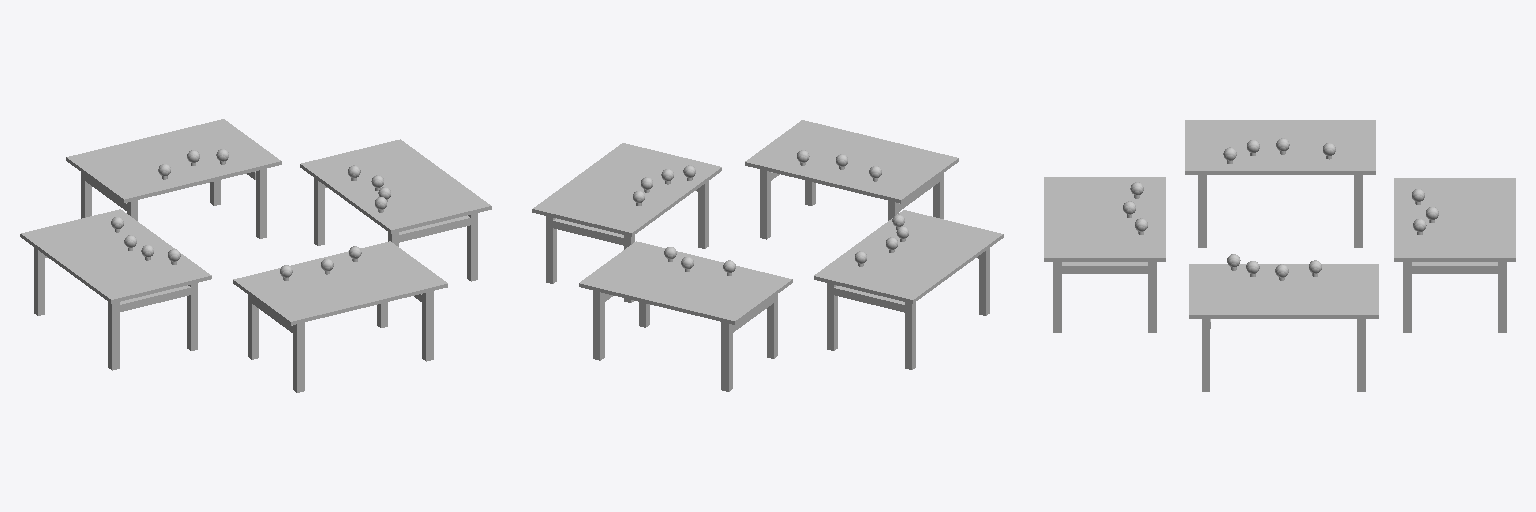
robot.urdf — tables_and_knobs_scene:
<?xml version="1.0"?>
<!-- created with Phobos 1.0.1 "Capricious Choutengan" -->
  <robot name="tables_and_knobs_scene">

    <link name="knob">
      <inertial>
        <origin xyz="0 0 0" rpy="0 0 0"/>
        <mass value="0.001"/>
        <inertia ixx="0.001" ixy="0" ixz="0" iyy="0.001" iyz="0" izz="0.001"/>
      </inertial>
      <visual name="Cylinder">
        <origin xyz="0 0 0" rpy="0 0 0"/>
        <geometry>
          <mesh filename="package://Tables_and_Knobs/meshes/dae/Cylinder.002.dae" scale="0.034 0.034 0.05921"/>
        </geometry>
        <material name="Red Material"/>
      </visual>
      <collision name="Cylinder.col">
        <origin xyz="0 0 0" rpy="0 0 0"/>
        <geometry>
          <mesh filename="package://Tables_and_Knobs/meshes/dae/Cylinder.003.dae" scale="0.034 0.034 0.05921"/>
        </geometry>
      </collision>
    </link>

    <link name="knob.001">
      <inertial>
        <origin xyz="0 0 0" rpy="0 0 0"/>
        <mass value="0.001"/>
        <inertia ixx="0.001" ixy="0" ixz="0" iyy="0.001" iyz="0" izz="0.001"/>
      </inertial>
      <visual name="Cylinder.001">
        <origin xyz="0 0 0" rpy="0 0 0"/>
        <geometry>
          <mesh filename="package://Tables_and_Knobs/meshes/dae/Cylinder.004.dae" scale="0.034 0.034 0.05921"/>
        </geometry>
        <material name="Red Material"/>
      </visual>
      <collision name="Cylinder.col.001">
        <origin xyz="0 0 0" rpy="0 0 0"/>
        <geometry>
          <mesh filename="package://Tables_and_Knobs/meshes/dae/Cylinder.005.dae" scale="0.034 0.034 0.05921"/>
        </geometry>
      </collision>
    </link>

    <link name="knob.002">
      <inertial>
        <origin xyz="0 0 0" rpy="0 0 0"/>
        <mass value="0.001"/>
        <inertia ixx="0.001" ixy="0" ixz="0" iyy="0.001" iyz="0" izz="0.001"/>
      </inertial>
      <visual name="Cylinder.002">
        <origin xyz="0 0 0" rpy="0 0 0"/>
        <geometry>
          <mesh filename="package://Tables_and_Knobs/meshes/dae/Cylinder.006.dae" scale="0.034 0.034 0.05921"/>
        </geometry>
        <material name="Red Material"/>
      </visual>
      <collision name="Cylinder.col.002">
        <origin xyz="0 0 0" rpy="0 0 0"/>
        <geometry>
          <mesh filename="package://Tables_and_Knobs/meshes/dae/Cylinder.007.dae" scale="0.034 0.034 0.05921"/>
        </geometry>
      </collision>
    </link>

    <link name="knob.003">
      <inertial>
        <origin xyz="0 0 0" rpy="0 0 0"/>
        <mass value="0.001"/>
        <inertia ixx="0.001" ixy="0" ixz="0" iyy="0.001" iyz="0" izz="0.001"/>
      </inertial>
      <visual name="Cylinder.003">
        <origin xyz="0 0 0" rpy="0 0 0"/>
        <geometry>
          <mesh filename="package://Tables_and_Knobs/meshes/dae/Cylinder.008.dae" scale="0.034 0.034 0.05921"/>
        </geometry>
        <material name="Red Material"/>
      </visual>
      <collision name="Cylinder.col.003">
        <origin xyz="0 0 0" rpy="0 0 0"/>
        <geometry>
          <mesh filename="package://Tables_and_Knobs/meshes/dae/Cylinder.009.dae" scale="0.034 0.034 0.05921"/>
        </geometry>
      </collision>
    </link>

    <link name="knob.004">
      <inertial>
        <origin xyz="0 0 0" rpy="0 0 0"/>
        <mass value="0.001"/>
        <inertia ixx="0.001" ixy="0" ixz="0" iyy="0.001" iyz="0" izz="0.001"/>
      </inertial>
      <visual name="Cylinder.004">
        <origin xyz="0 0 0" rpy="0 0 0"/>
        <geometry>
          <mesh filename="package://Tables_and_Knobs/meshes/dae/Cylinder.010.dae" scale="0.034 0.034 0.05921"/>
        </geometry>
        <material name="Red Material"/>
      </visual>
      <collision name="Cylinder.col.004">
        <origin xyz="0 0 0" rpy="0 0 0"/>
        <geometry>
          <mesh filename="package://Tables_and_Knobs/meshes/dae/Cylinder.011.dae" scale="0.034 0.034 0.05921"/>
        </geometry>
      </collision>
    </link>

    <link name="knob.005">
      <inertial>
        <origin xyz="0 0 0" rpy="0 0 0"/>
        <mass value="0.001"/>
        <inertia ixx="0.001" ixy="0" ixz="0" iyy="0.001" iyz="0" izz="0.001"/>
      </inertial>
      <visual name="Cylinder.005">
        <origin xyz="0 0 0" rpy="0 0 0"/>
        <geometry>
          <mesh filename="package://Tables_and_Knobs/meshes/dae/Cylinder.012.dae" scale="0.034 0.034 0.05921"/>
        </geometry>
        <material name="Red Material"/>
      </visual>
      <collision name="Cylinder.col.005">
        <origin xyz="0 0 0" rpy="0 0 0"/>
        <geometry>
          <mesh filename="package://Tables_and_Knobs/meshes/dae/Cylinder.013.dae" scale="0.034 0.034 0.05921"/>
        </geometry>
      </collision>
    </link>

    <link name="knob.006">
      <inertial>
        <origin xyz="0 0 0" rpy="0 0 0"/>
        <mass value="0.001"/>
        <inertia ixx="0.001" ixy="0" ixz="0" iyy="0.001" iyz="0" izz="0.001"/>
      </inertial>
      <visual name="Cylinder.006">
        <origin xyz="0 0 0" rpy="0 0 0"/>
        <geometry>
          <mesh filename="package://Tables_and_Knobs/meshes/dae/Cylinder.014.dae" scale="0.034 0.034 0.05921"/>
        </geometry>
        <material name="Red Material"/>
      </visual>
      <collision name="Cylinder.col.006">
        <origin xyz="0 0 0" rpy="0 0 0"/>
        <geometry>
          <mesh filename="package://Tables_and_Knobs/meshes/dae/Cylinder.015.dae" scale="0.034 0.034 0.05921"/>
        </geometry>
      </collision>
    </link>

    <link name="knob.007">
      <inertial>
        <origin xyz="0 0 0" rpy="0 0 0"/>
        <mass value="0.001"/>
        <inertia ixx="0.001" ixy="0" ixz="0" iyy="0.001" iyz="0" izz="0.001"/>
      </inertial>
      <visual name="Cylinder.007">
        <origin xyz="0 0 0" rpy="0 0 0"/>
        <geometry>
          <mesh filename="package://Tables_and_Knobs/meshes/dae/Cylinder.016.dae" scale="0.034 0.034 0.05921"/>
        </geometry>
        <material name="Red Material"/>
      </visual>
      <collision name="Cylinder.col.007">
        <origin xyz="0 0 0" rpy="0 0 0"/>
        <geometry>
          <mesh filename="package://Tables_and_Knobs/meshes/dae/Cylinder.017.dae" scale="0.034 0.034 0.05921"/>
        </geometry>
      </collision>
    </link>

    <link name="knob.008">
      <inertial>
        <origin xyz="0 0 0" rpy="0 0 0"/>
        <mass value="0.001"/>
        <inertia ixx="0.001" ixy="0" ixz="0" iyy="0.001" iyz="0" izz="0.001"/>
      </inertial>
      <visual name="Cylinder.008">
        <origin xyz="0 0 0" rpy="0 0 0"/>
        <geometry>
          <mesh filename="package://Tables_and_Knobs/meshes/dae/Cylinder.018.dae" scale="0.034 0.034 0.05921"/>
        </geometry>
        <material name="Red Material"/>
      </visual>
      <collision name="Cylinder.col.008">
        <origin xyz="0 0 0" rpy="0 0 0"/>
        <geometry>
          <mesh filename="package://Tables_and_Knobs/meshes/dae/Cylinder.019.dae" scale="0.034 0.034 0.05921"/>
        </geometry>
      </collision>
    </link>

    <link name="knob.009">
      <inertial>
        <origin xyz="0 0 0" rpy="0 0 0"/>
        <mass value="0.001"/>
        <inertia ixx="0.001" ixy="0" ixz="0" iyy="0.001" iyz="0" izz="0.001"/>
      </inertial>
      <visual name="Cylinder.009">
        <origin xyz="0 0 0" rpy="0 0 0"/>
        <geometry>
          <mesh filename="package://Tables_and_Knobs/meshes/dae/Cylinder.020.dae" scale="0.034 0.034 0.05921"/>
        </geometry>
        <material name="Red Material"/>
      </visual>
      <collision name="Cylinder.col.009">
        <origin xyz="0 0 0" rpy="0 0 0"/>
        <geometry>
          <mesh filename="package://Tables_and_Knobs/meshes/dae/Cylinder.021.dae" scale="0.034 0.034 0.05921"/>
        </geometry>
      </collision>
    </link>

    <link name="knob.010">
      <inertial>
        <origin xyz="0 0 0" rpy="0 0 0"/>
        <mass value="0.001"/>
        <inertia ixx="0.001" ixy="0" ixz="0" iyy="0.001" iyz="0" izz="0.001"/>
      </inertial>
      <visual name="Cylinder.010">
        <origin xyz="0 0 0" rpy="0 0 0"/>
        <geometry>
          <mesh filename="package://Tables_and_Knobs/meshes/dae/Cylinder.022.dae" scale="0.034 0.034 0.05921"/>
        </geometry>
        <material name="Red Material"/>
      </visual>
      <collision name="Cylinder.col.010">
        <origin xyz="0 0 0" rpy="0 0 0"/>
        <geometry>
          <mesh filename="package://Tables_and_Knobs/meshes/dae/Cylinder.023.dae" scale="0.034 0.034 0.05921"/>
        </geometry>
      </collision>
    </link>

    <link name="knob.011">
      <inertial>
        <origin xyz="0 0 0" rpy="0 0 0"/>
        <mass value="0.001"/>
        <inertia ixx="0.001" ixy="0" ixz="0" iyy="0.001" iyz="0" izz="0.001"/>
      </inertial>
      <visual name="Cylinder.011">
        <origin xyz="0 0 0" rpy="0 0 0"/>
        <geometry>
          <mesh filename="package://Tables_and_Knobs/meshes/dae/Cylinder.024.dae" scale="0.034 0.034 0.05921"/>
        </geometry>
        <material name="Red Material"/>
      </visual>
      <collision name="Cylinder.col.011">
        <origin xyz="0 0 0" rpy="0 0 0"/>
        <geometry>
          <mesh filename="package://Tables_and_Knobs/meshes/dae/Cylinder.025.dae" scale="0.034 0.034 0.05921"/>
        </geometry>
      </collision>
    </link>

    <link name="knob.012">
      <inertial>
        <origin xyz="0 0 0" rpy="0 0 0"/>
        <mass value="0.001"/>
        <inertia ixx="0.001" ixy="0" ixz="0" iyy="0.001" iyz="0" izz="0.001"/>
      </inertial>
      <visual name="Cylinder.012">
        <origin xyz="0 0 0" rpy="0 0 0"/>
        <geometry>
          <mesh filename="package://Tables_and_Knobs/meshes/dae/Cylinder.026.dae" scale="0.034 0.034 0.05921"/>
        </geometry>
        <material name="Red Material"/>
      </visual>
      <collision name="Cylinder.col.012">
        <origin xyz="0 0 0" rpy="0 0 0"/>
        <geometry>
          <mesh filename="package://Tables_and_Knobs/meshes/dae/Cylinder.027.dae" scale="0.034 0.034 0.05921"/>
        </geometry>
      </collision>
    </link>

    <link name="knob.013">
      <inertial>
        <origin xyz="0 0 0" rpy="0 0 0"/>
        <mass value="0.001"/>
        <inertia ixx="0.001" ixy="0" ixz="0" iyy="0.001" iyz="0" izz="0.001"/>
      </inertial>
      <visual name="Cylinder.013">
        <origin xyz="0 0 0" rpy="0 0 0"/>
        <geometry>
          <mesh filename="package://Tables_and_Knobs/meshes/dae/Cylinder.028.dae" scale="0.034 0.034 0.05921"/>
        </geometry>
        <material name="Red Material"/>
      </visual>
      <collision name="Cylinder.col.013">
        <origin xyz="0 0 0" rpy="0 0 0"/>
        <geometry>
          <mesh filename="package://Tables_and_Knobs/meshes/dae/Cylinder.029.dae" scale="0.034 0.034 0.05921"/>
        </geometry>
      </collision>
    </link>

    <link name="scene_root">
      <inertial>
        <origin xyz="0 0 0" rpy="0 0 0"/>
        <mass value="0.001"/>
        <inertia ixx="0.001" ixy="0" ixz="0" iyy="0.001" iyz="0" izz="0.001"/>
      </inertial>
    </link>

    <link name="table_1">
      <inertial>
        <origin xyz="0 0 0" rpy="0 0 0"/>
        <mass value="0.001"/>
        <inertia ixx="0.001" ixy="0" ixz="0" iyy="0.001" iyz="0" izz="0.001"/>
      </inertial>
      <visual name="Table.001">
        <origin xyz="0 0 0" rpy="1.57072 0 0"/>
        <geometry>
          <mesh filename="package://Tables_and_Knobs/meshes/dae/Mesh.008.dae" scale="0.01 0.01 0.01"/>
        </geometry>
        <material name="Legs"/>
      </visual>
      <collision name="Table.col.001">
        <origin xyz="0 0 0" rpy="1.57072 0 0"/>
        <geometry>
          <mesh filename="package://Tables_and_Knobs/meshes/dae/Mesh.012.dae" scale="0.01 0.01 0.01"/>
        </geometry>
      </collision>
    </link>

    <link name="table_2">
      <inertial>
        <origin xyz="0 0 0" rpy="0 0 0"/>
        <mass value="0.001"/>
        <inertia ixx="0.001" ixy="0" ixz="0" iyy="0.001" iyz="0" izz="0.001"/>
      </inertial>
      <visual name="Table.002">
        <origin xyz="0 0 0" rpy="1.58372 0 0"/>
        <geometry>
          <mesh filename="package://Tables_and_Knobs/meshes/dae/Mesh.009.dae" scale="0.01 0.01 0.01"/>
        </geometry>
        <material name="Legs"/>
      </visual>
      <collision name="Table.col.002">
        <origin xyz="0 0 0" rpy="1.58372 0 0"/>
        <geometry>
          <mesh filename="package://Tables_and_Knobs/meshes/dae/Mesh.013.dae" scale="0.01 0.01 0.01"/>
        </geometry>
      </collision>
    </link>

    <link name="table_3">
      <inertial>
        <origin xyz="0 0 0" rpy="0 0 0"/>
        <mass value="0.001"/>
        <inertia ixx="0.001" ixy="0" ixz="0" iyy="0.001" iyz="0" izz="0.001"/>
      </inertial>
      <visual name="Table">
        <origin xyz="0 0 0" rpy="1.5708 0 0"/>
        <geometry>
          <mesh filename="package://Tables_and_Knobs/meshes/dae/Mesh.003.dae" scale="0.01 0.01 0.01"/>
        </geometry>
        <material name="Legs"/>
      </visual>
      <collision name="Table.col">
        <origin xyz="0 0 0" rpy="1.5708 0 0"/>
        <geometry>
          <mesh filename="package://Tables_and_Knobs/meshes/dae/Mesh.011.dae" scale="0.01 0.01 0.01"/>
        </geometry>
      </collision>
    </link>

    <link name="table_4">
      <inertial>
        <origin xyz="0 0 0" rpy="0 0 0"/>
        <mass value="0.001"/>
        <inertia ixx="0.001" ixy="0" ixz="0" iyy="0.001" iyz="0" izz="0.001"/>
      </inertial>
      <visual name="Table.003">
        <origin xyz="0 0 0" rpy="1.5708 0 0"/>
        <geometry>
          <mesh filename="package://Tables_and_Knobs/meshes/dae/Mesh.010.dae" scale="0.01 0.01 0.01"/>
        </geometry>
        <material name="Legs"/>
      </visual>
      <collision name="Table.col.003">
        <origin xyz="0 0 0" rpy="1.5708 0 0"/>
        <geometry>
          <mesh filename="package://Tables_and_Knobs/meshes/dae/Mesh.014.dae" scale="0.01 0.01 0.01"/>
        </geometry>
      </collision>
    </link>

    <joint name="knob" type="continuous">
      <origin xyz="-0.37235 0.36354 0.08462" rpy="-8e-05 0 0"/>
      <parent link="table_1"/>
      <child link="knob"/>
      <axis xyz="0 0 1.0"/>
      <limit effort="0" velocity="0"/>
    </joint>

    <joint name="knob.001" type="continuous">
      <origin xyz="-0.26365 -0.02096 0.08465" rpy="-8e-05 0 0"/>
      <parent link="table_1"/>
      <child link="knob.001"/>
      <axis xyz="0 0 1.0"/>
      <limit effort="0" velocity="0"/>
    </joint>

    <joint name="knob.002" type="continuous">
      <origin xyz="-0.3608 -0.35745 0.08468" rpy="-8e-05 0 0"/>
      <parent link="table_1"/>
      <child link="knob.002"/>
      <axis xyz="0 0 1.0"/>
      <limit effort="0" velocity="0"/>
    </joint>

    <joint name="knob.003" type="continuous">
      <origin xyz="-0.54114 -0.57797 0.0847" rpy="-8e-05 0 0"/>
      <parent link="table_1"/>
      <child link="knob.003"/>
      <axis xyz="0 0 1.0"/>
      <limit effort="0" velocity="0"/>
    </joint>

    <joint name="knob.004" type="continuous">
      <origin xyz="-0.40559 -0.44768 0.07887" rpy="0 0.01293 -1.5708"/>
      <parent link="table_2"/>
      <child link="knob.004"/>
      <axis xyz="0 0 1.0"/>
      <limit effort="0" velocity="0"/>
    </joint>

    <joint name="knob.005" type="continuous">
      <origin xyz="-0.26062 -0.12277 0.08307" rpy="0 0.01293 -1.5708"/>
      <parent link="table_2"/>
      <child link="knob.005"/>
      <axis xyz="0 0 1.0"/>
      <limit effort="0" velocity="0"/>
    </joint>

    <joint name="knob.006" type="continuous">
      <origin xyz="-0.42234 0.37242 0.08947" rpy="0 0.01293 -1.5708"/>
      <parent link="table_2"/>
      <child link="knob.006"/>
      <axis xyz="0 0 1.0"/>
      <limit effort="0" velocity="0"/>
    </joint>

    <joint name="knob.007" type="continuous">
      <origin xyz="0.34433 0.5622 0.08465" rpy="0 0 0"/>
      <parent link="table_3"/>
      <child link="knob.007"/>
      <axis xyz="0 0 1.0"/>
      <limit effort="0" velocity="0"/>
    </joint>

    <joint name="knob.008" type="continuous">
      <origin xyz="0.21727 0.02673 0.08465" rpy="0 0 0"/>
      <parent link="table_3"/>
      <child link="knob.008"/>
      <axis xyz="0 0 1.0"/>
      <limit effort="0" velocity="0"/>
    </joint>

    <joint name="knob.009" type="continuous">
      <origin xyz="0.26071 -0.31507 0.08465" rpy="0 0 0"/>
      <parent link="table_3"/>
      <child link="knob.009"/>
      <axis xyz="0 0 1.0"/>
      <limit effort="0" velocity="0"/>
    </joint>

    <joint name="knob.010" type="continuous">
      <origin xyz="0.47408 -0.58207 0.08465" rpy="0 0 0"/>
      <parent link="table_3"/>
      <child link="knob.010"/>
      <axis xyz="0 0 1.0"/>
      <limit effort="0" velocity="0"/>
    </joint>

    <joint name="knob.011" type="continuous">
      <origin xyz="0.36976 0.54674 0.08465" rpy="0 0 -1.5708"/>
      <parent link="table_4"/>
      <child link="knob.011"/>
      <axis xyz="0 0 1.0"/>
      <limit effort="0" velocity="0"/>
    </joint>

    <joint name="knob.012" type="continuous">
      <origin xyz="0.28221 0.02353 0.08465" rpy="0 0 -1.5708"/>
      <parent link="table_4"/>
      <child link="knob.012"/>
      <axis xyz="0 0 1.0"/>
      <limit effort="0" velocity="0"/>
    </joint>

    <joint name="knob.013" type="continuous">
      <origin xyz="0.41804 -0.44346 0.08465" rpy="0 0 -1.5708"/>
      <parent link="table_4"/>
      <child link="knob.013"/>
      <axis xyz="0 0 1.0"/>
      <limit effort="0" velocity="0"/>
    </joint>

    <joint name="table_1" type="fixed">
      <origin xyz="1.97876 0.05933 1.00019" rpy="8e-05 0 0"/>
      <parent link="scene_root"/>
      <child link="table_1"/>
    </joint>

    <joint name="table_2" type="fixed">
      <origin xyz="0.02165 2.03392 1.00019" rpy="-0.01293 0 1.5708"/>
      <parent link="scene_root"/>
      <child link="table_2"/>
    </joint>

    <joint name="table_3" type="fixed">
      <origin xyz="-1.94873 0.02132 1.00019" rpy="0 0 0"/>
      <parent link="scene_root"/>
      <child link="table_3"/>
    </joint>

    <joint name="table_4" type="fixed">
      <origin xyz="0.01643 -2.00453 1.00019" rpy="0 0 1.5708"/>
      <parent link="scene_root"/>
      <child link="table_4"/>
    </joint>

    <material name="Legs">
      <color rgba="0.8 0.8 0.8 1.0"/>
    </material>

    <material name="Red Material">
      <color rgba="0.8 0.8 0.8 1.0"/>
    </material>

  </robot>

--- Facts derived from the render (not from the file) ---
3 views of the same robot in one strip: view 1: azimuth 30°, elevation 25°; view 2: azimuth 150°, elevation 25°; view 3: azimuth 270°, elevation 25° (orthographic).
Robot: tables_and_knobs_scene — 19 links, 18 joints (14 continuous, 4 fixed); root link scene_root; default pose: all joints at 0.
Visible links, largest first — view 1: table_4, table_3, table_1, table_2; view 2: table_2, table_3, table_1, table_4; view 3: table_4, table_2, table_1, table_3.
Boxes of the visible links, <box> form: table_4: <box>233,241,447,392</box>; table_3: <box>20,209,211,370</box>; table_1: <box>300,139,491,281</box>; table_2: <box>66,119,281,238</box>; table_2: <box>579,241,792,391</box>; table_3: <box>814,210,1003,369</box>; table_1: <box>532,143,721,302</box>; table_4: <box>745,120,958,239</box>; table_4: <box>1044,177,1165,332</box>; table_2: <box>1394,178,1515,332</box>; table_1: <box>1189,264,1378,391</box>; table_3: <box>1185,120,1375,247</box>.
Size in the robot's own frame: 5.33 by 5.44 by 1.22 metres.
Meshes: 18 distinct files referenced, 18 mesh visuals loaded (18 Collada DAE).